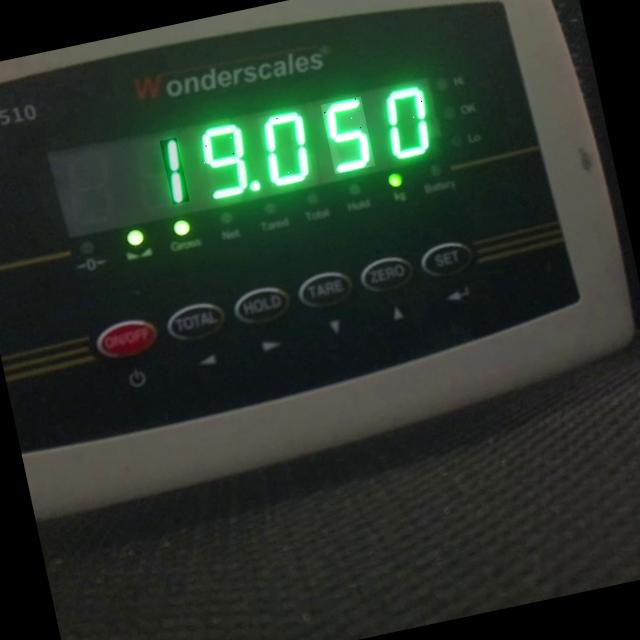.: (248, 178, 260, 192)
0: (377, 80, 437, 162), (257, 109, 315, 188)
1: (159, 137, 189, 204)
5: (320, 95, 375, 173)
9: (196, 118, 256, 203)
